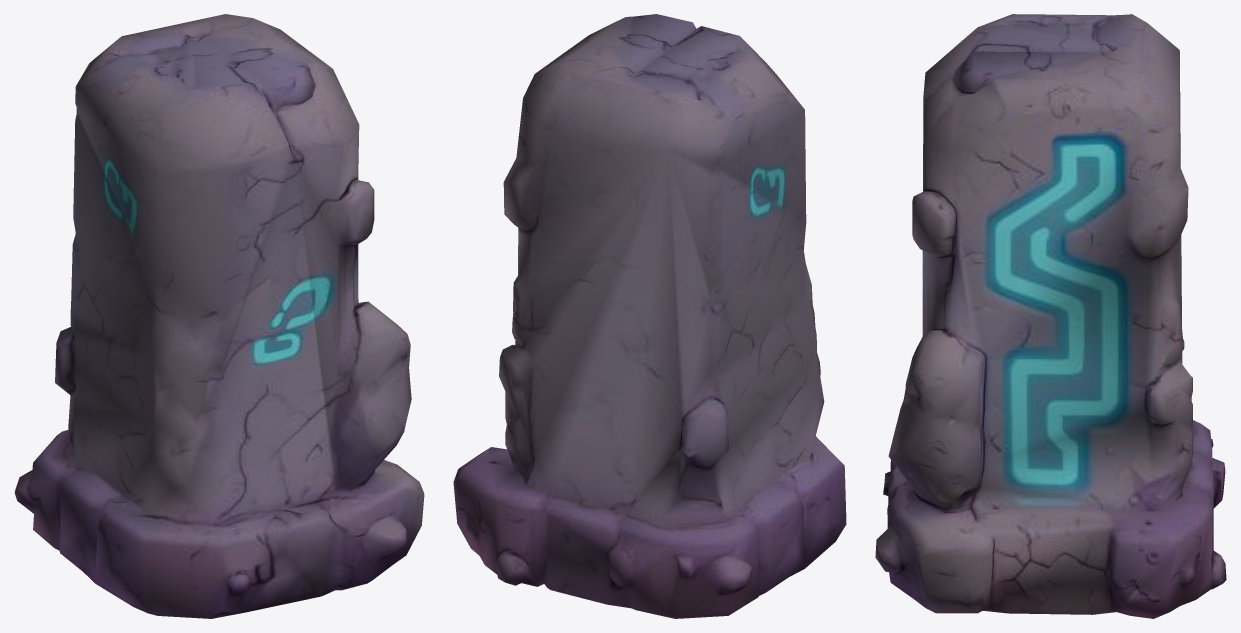
The model's file is monolith.glb.
3 renders of one model, left to right at view 1: azimuth 30°, elevation 25°; view 2: azimuth 150°, elevation 25°; view 3: azimuth 270°, elevation 25°, orthographic. The views are drawn at different scales.
Parts seen in each view (by area): view 1: tripo_node_0232eb77-8997-4568-8fc9-493a2cbcc46a; view 2: tripo_node_0232eb77-8997-4568-8fc9-493a2cbcc46a; view 3: tripo_node_0232eb77-8997-4568-8fc9-493a2cbcc46a.
Boxes of the visible parts, x1,y1,x2,y2 form: tripo_node_0232eb77-8997-4568-8fc9-493a2cbcc46a: [14, 14, 424, 618]; tripo_node_0232eb77-8997-4568-8fc9-493a2cbcc46a: [453, 14, 846, 618]; tripo_node_0232eb77-8997-4568-8fc9-493a2cbcc46a: [875, 14, 1226, 618].
Size of the model in its own units: 0.623 by 0.998 by 0.6309.
1 material, 1 textured.
